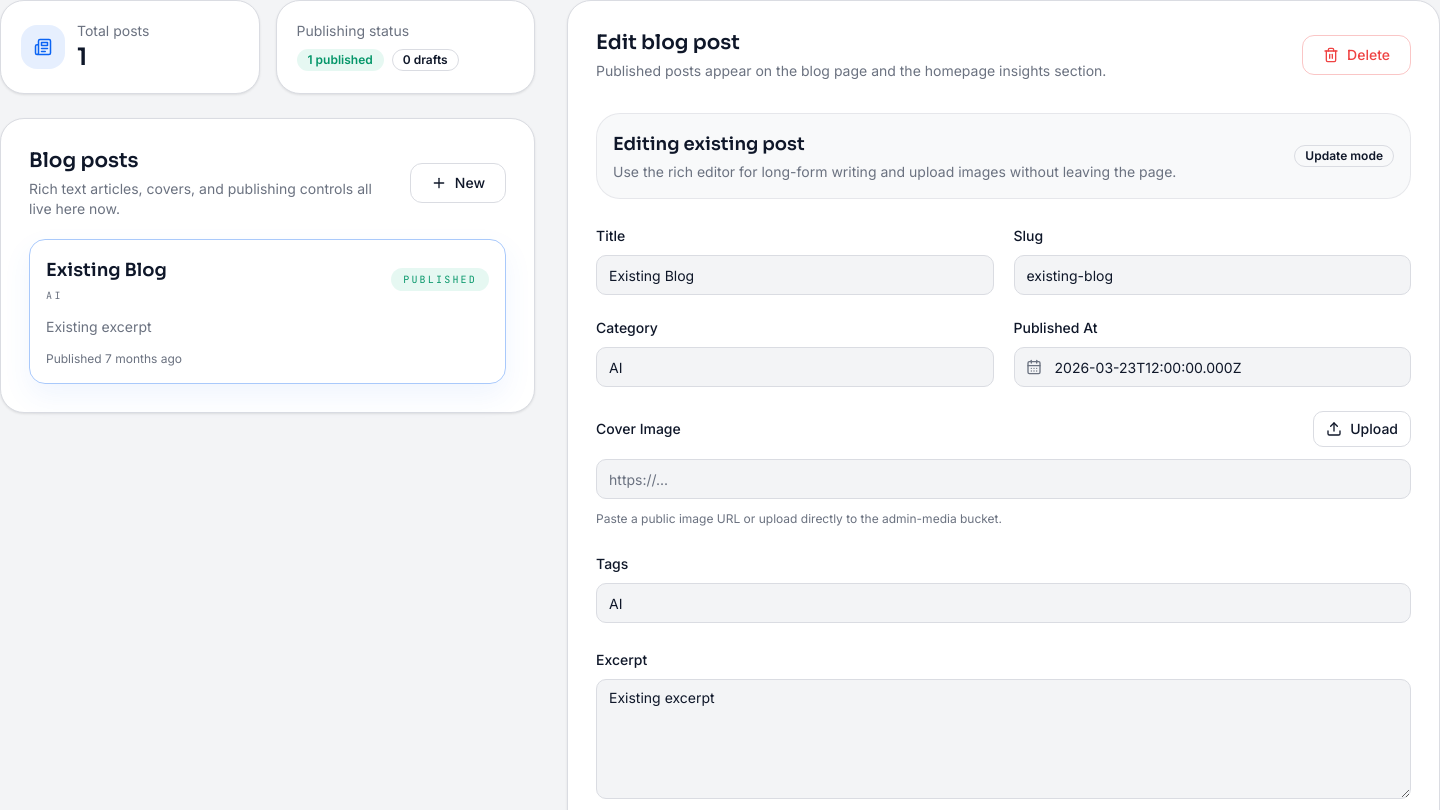
Test: admin managers › keeps the blog form in create mode when clicking New with existing posts
This screenshot has width=1440, height=810.
Check: the heading "Edit blog post" is shown, box [596,30,740,55]
Click the button "New" at coordinates (458, 183), box [410,163,506,203]
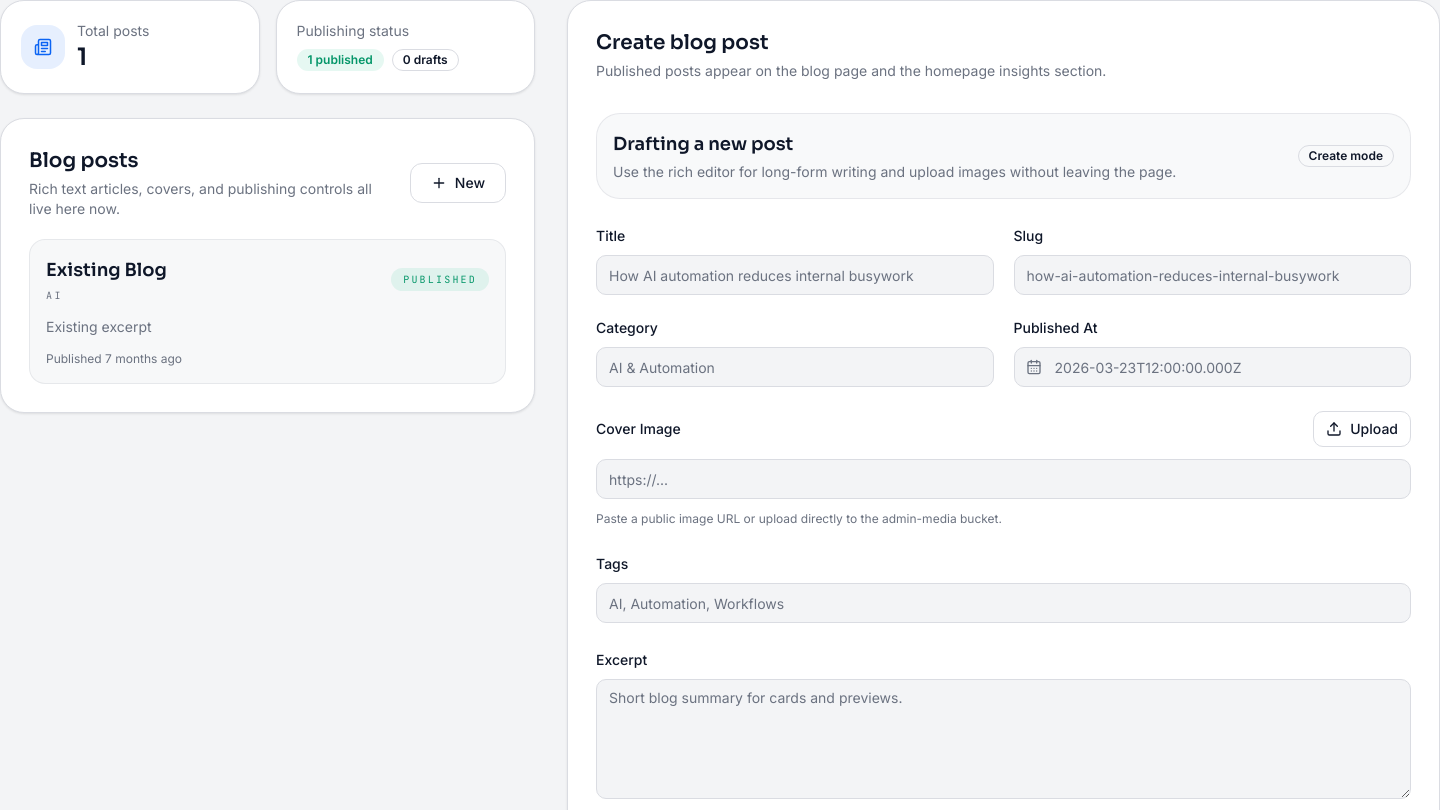
Check: the heading "Create blog post" is shown, box [596,30,768,55]
Check: the field labelled "Title" is empty, box [596,255,994,295]
